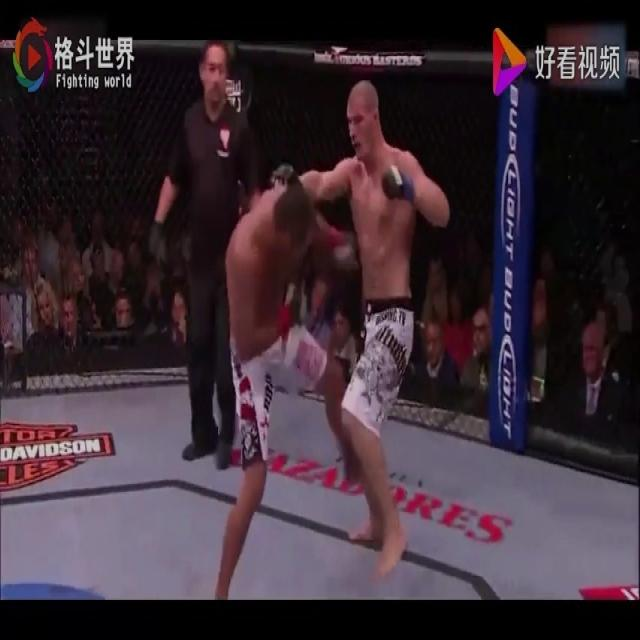fight: (216, 69, 453, 598)
non-fight: (150, 42, 262, 474)
